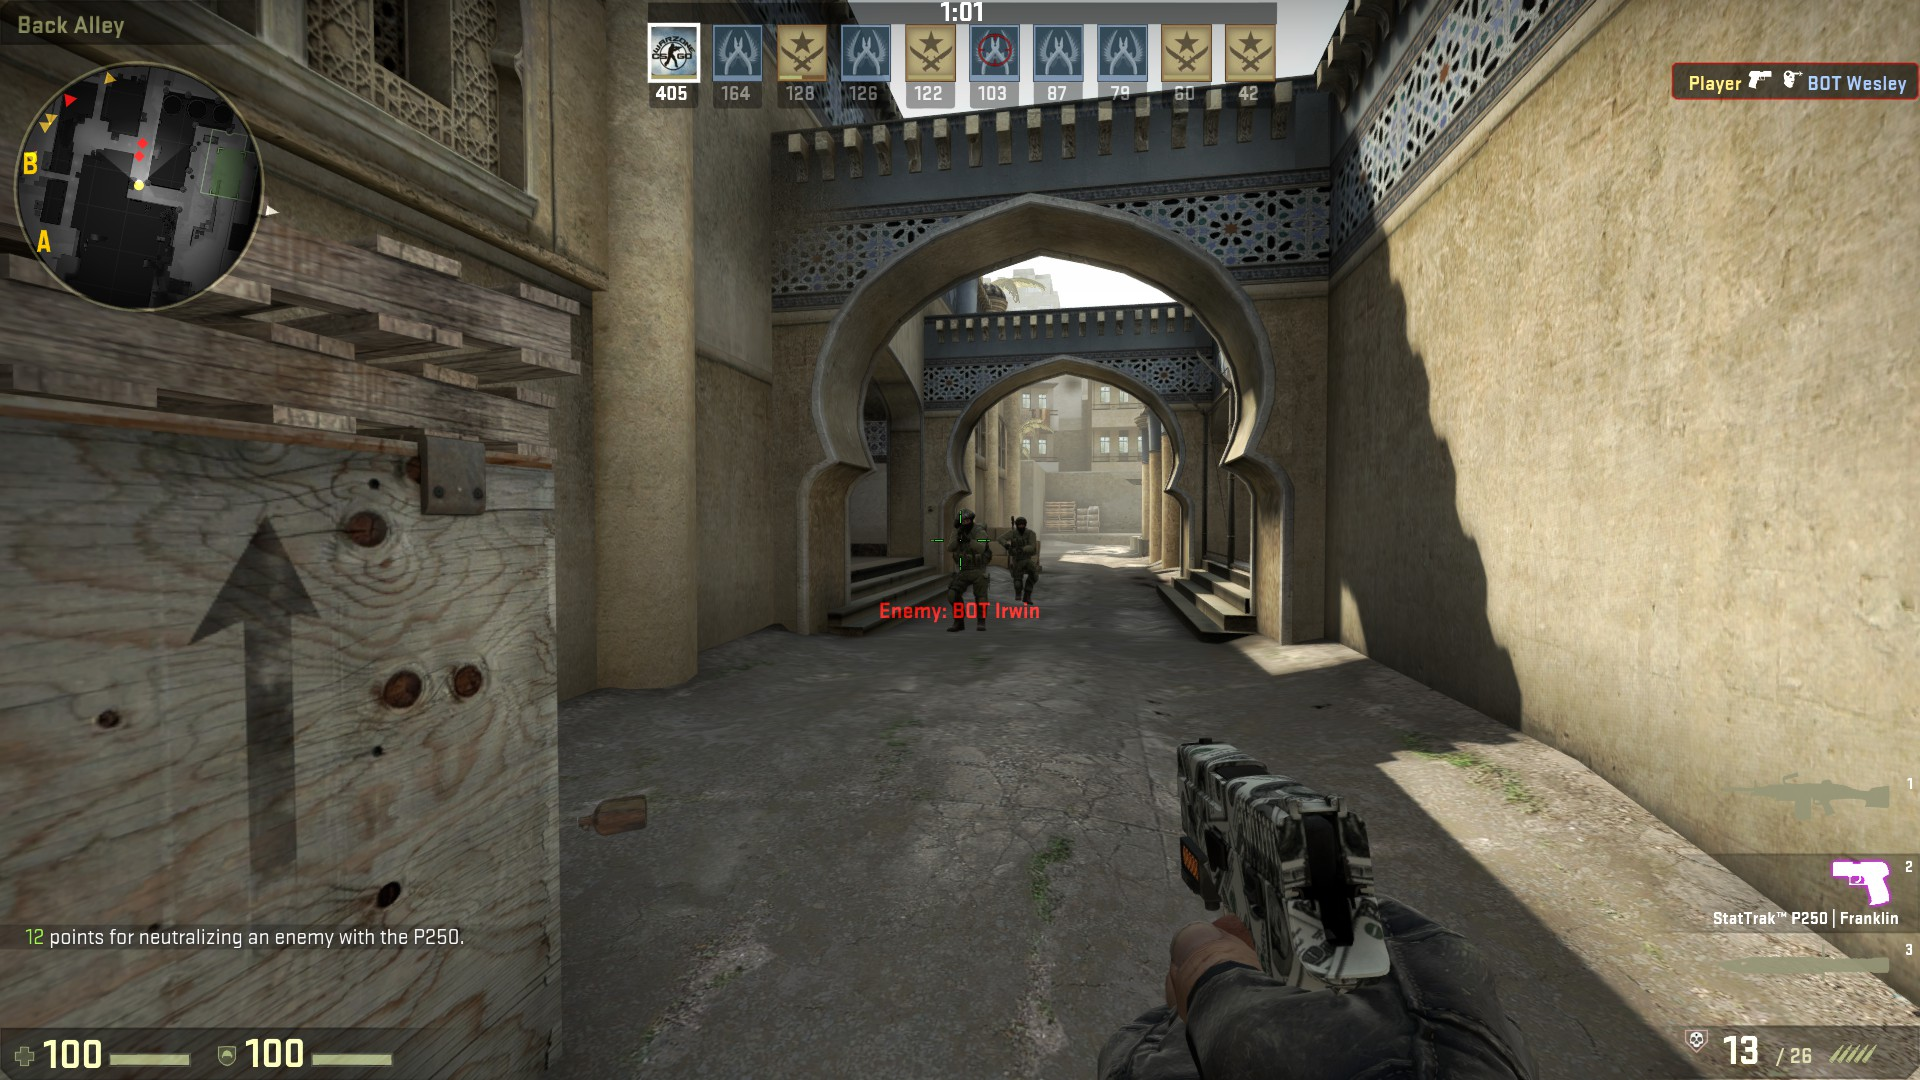c: (945, 508, 992, 632), (1007, 516, 1036, 603)
ch: (955, 506, 975, 531), (1013, 514, 1030, 533)
